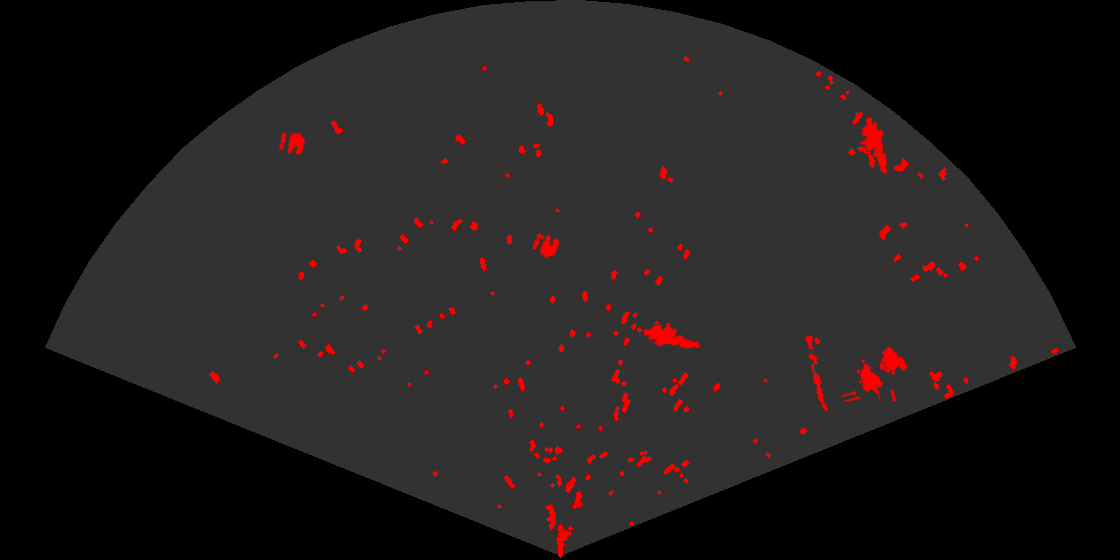ball: (531, 231, 561, 260), (277, 131, 307, 157)
cage: (841, 345, 909, 401)
chain: (803, 332, 830, 414)
frogman: (644, 320, 702, 350), (858, 118, 889, 174)
